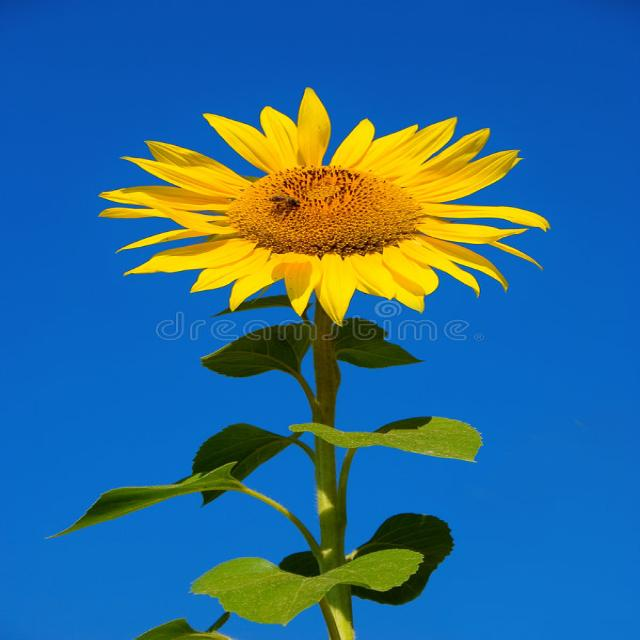sunflower: (93, 83, 552, 313)
